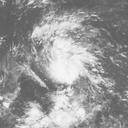cyclone: (35, 21, 102, 87)
